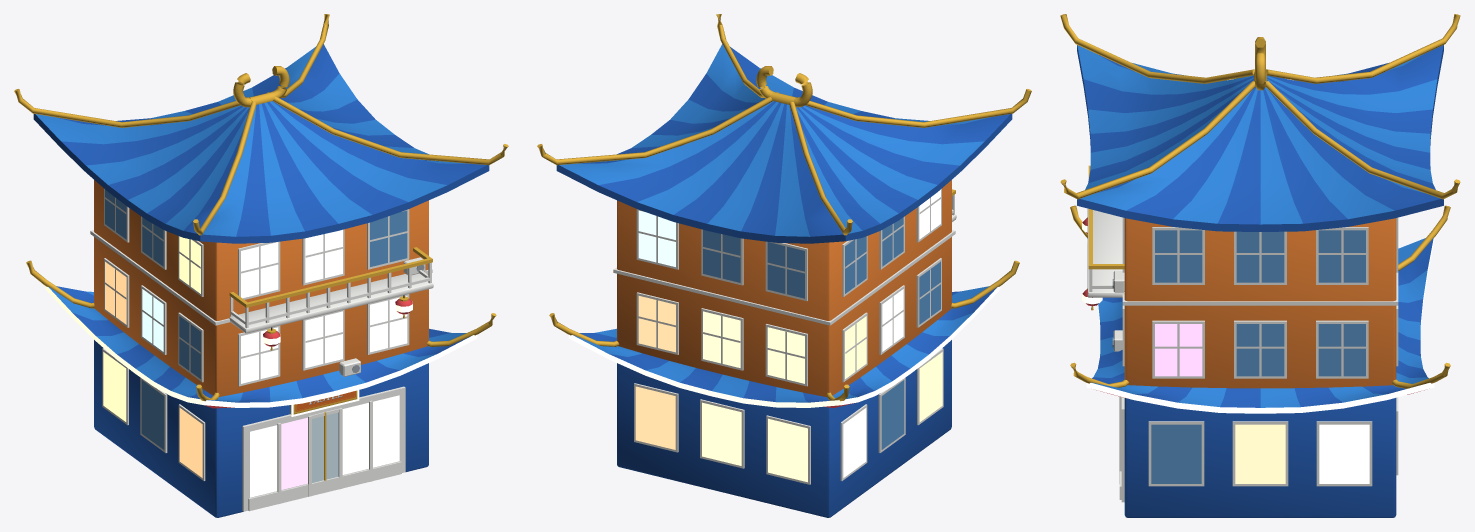
File: loja_3_andares_laranja.glb
The picture shows the model from 3 angles, left to right: view 1: azimuth 30°, elevation 25°; view 2: azimuth 150°, elevation 25°; view 3: azimuth 270°, elevation 25°; orthographic projection. The views are drawn at different scales.
Parts seen in each view (by area): view 1: loja_3_andares_laranja; view 2: loja_3_andares_laranja; view 3: loja_3_andares_laranja.
Part boxes in pixels (x1,y1,x2,y2): loja_3_andares_laranja: [14, 14, 508, 517]; loja_3_andares_laranja: [537, 14, 1031, 517]; loja_3_andares_laranja: [1060, 14, 1460, 517].
Size of the model in its own units: 12.36 by 14.19 by 12.38.
9 materials, 2 textured.
